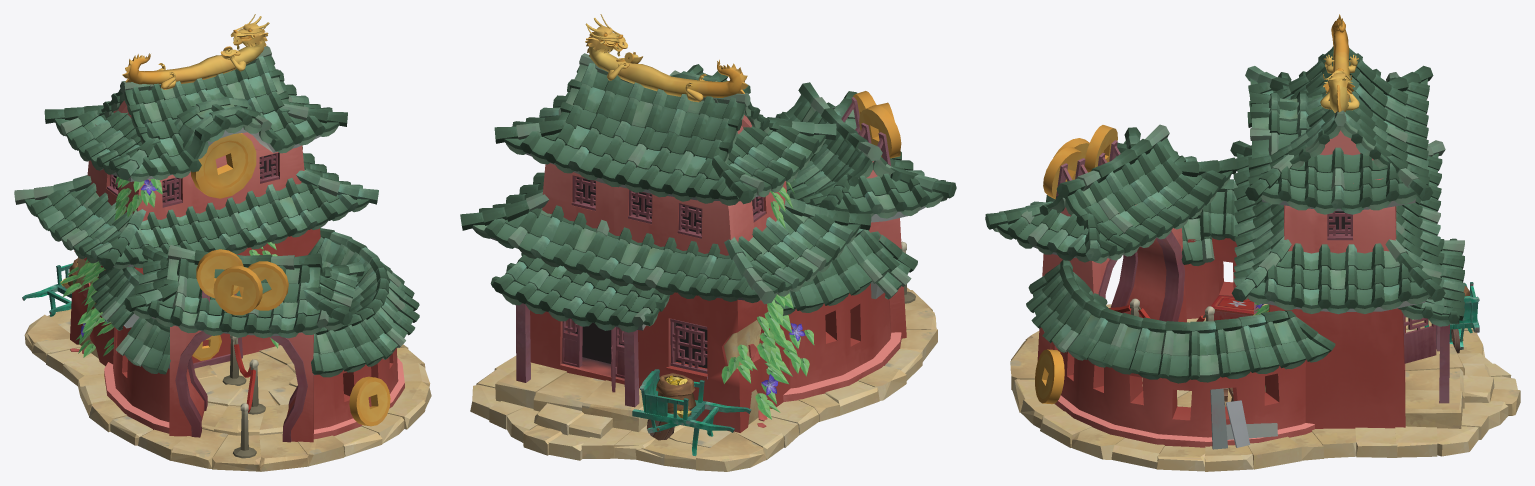
3 renders of one model, left to right at view 1: azimuth 30°, elevation 25°; view 2: azimuth 150°, elevation 25°; view 3: azimuth 270°, elevation 25°, orthographic. The views are drawn at different scales.
Parts seen in each view (by area): view 1: ROOFS, polySurface2, polySurface5, DECO, Woods, dragon_and_gold, polySurface29, Cart, Under_roof; view 2: ROOFS, polySurface5, polySurface2, Woods, polySurface29, dragon_and_gold, Cart, DECO, polySurface25, Under_roof; view 3: ROOFS, polySurface5, polySurface2, Woods, DECO, dragon_and_gold, Cart, pCube1, Chest, pCube3, polySurface29.
Part boxes in pixels (x1=…): ROOFS: x1=14, y1=46, x2=419, y2=377; polySurface2: x1=24, y1=309, x2=431, y2=471; polySurface5: x1=70, y1=100, x2=404, y2=442; DECO: x1=191, y1=133, x2=390, y2=458; Woods: x1=107, y1=153, x2=307, y2=442; dragon_and_gold: x1=122, y1=14, x2=269, y2=89; polySurface29: x1=59, y1=176, x2=279, y2=357; Cart: x1=22, y1=263, x2=72, y2=316; Under_roof: x1=112, y1=127, x2=350, y2=375; ROOFS: x1=460, y1=53, x2=956, y2=332; polySurface5: x1=530, y1=115, x2=906, y2=432; polySurface2: x1=470, y1=287, x2=937, y2=471; Woods: x1=515, y1=175, x2=765, y2=407; polySurface29: x1=721, y1=97, x2=890, y2=419; dragon_and_gold: x1=585, y1=14, x2=748, y2=102; Cart: x1=632, y1=369, x2=751, y2=456; DECO: x1=853, y1=91, x2=915, y2=303; polySurface25: x1=656, y1=373, x2=696, y2=415; Under_roof: x1=490, y1=153, x2=925, y2=330; ROOFS: x1=985, y1=46, x2=1464, y2=383; polySurface5: x1=1037, y1=130, x2=1405, y2=447; polySurface2: x1=1010, y1=304, x2=1520, y2=471; Woods: x1=1098, y1=211, x2=1449, y2=403; DECO: x1=1035, y1=125, x2=1214, y2=404; dragon_and_gold: x1=1320, y1=14, x2=1359, y2=112; Cart: x1=1424, y1=282, x2=1479, y2=353; pCube1: x1=1210, y1=388, x2=1227, y2=449; Chest: x1=1211, y1=295, x2=1253, y2=320; pCube3: x1=1225, y1=400, x2=1250, y2=447; polySurface29: x1=1055, y1=140, x2=1269, y2=386.
Bounding box in the file's own units: 6.45 × 6.23 × 8.61.
2 materials, 2 textured.
